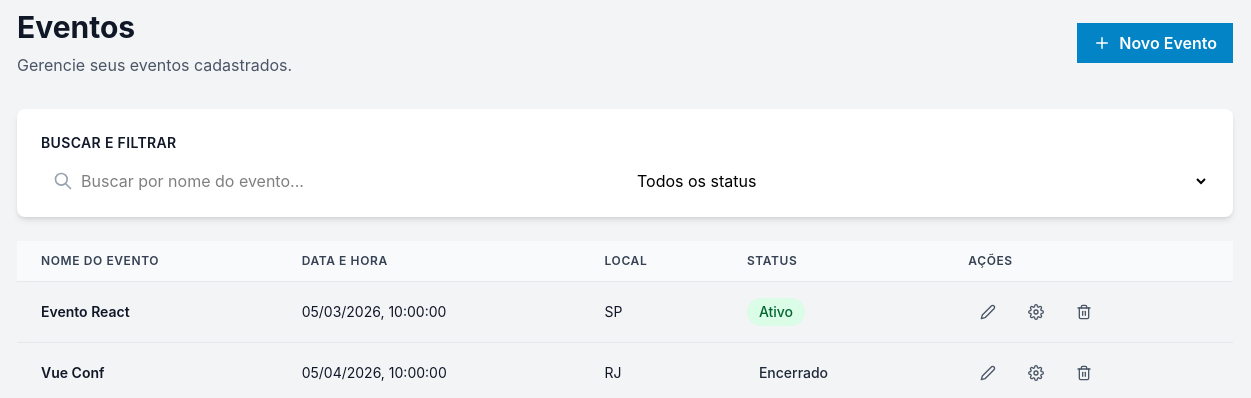
Events Page › should filter events by name
Expected: the text "Evento React" is shown, [41,303,130,320]
Type "React" into the field with placeholder "Buscar por nome do evento...".
click(329, 181); type("React")  # box [41,169,617,193]
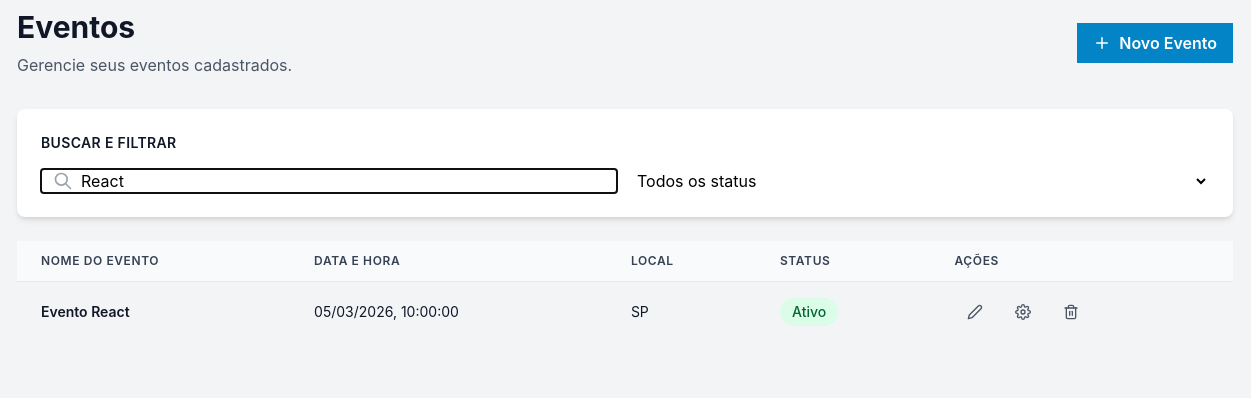
Expected: the text "Evento React" is shown, [41,303,130,320]
Expected: the text "Vue Conf" is gone
